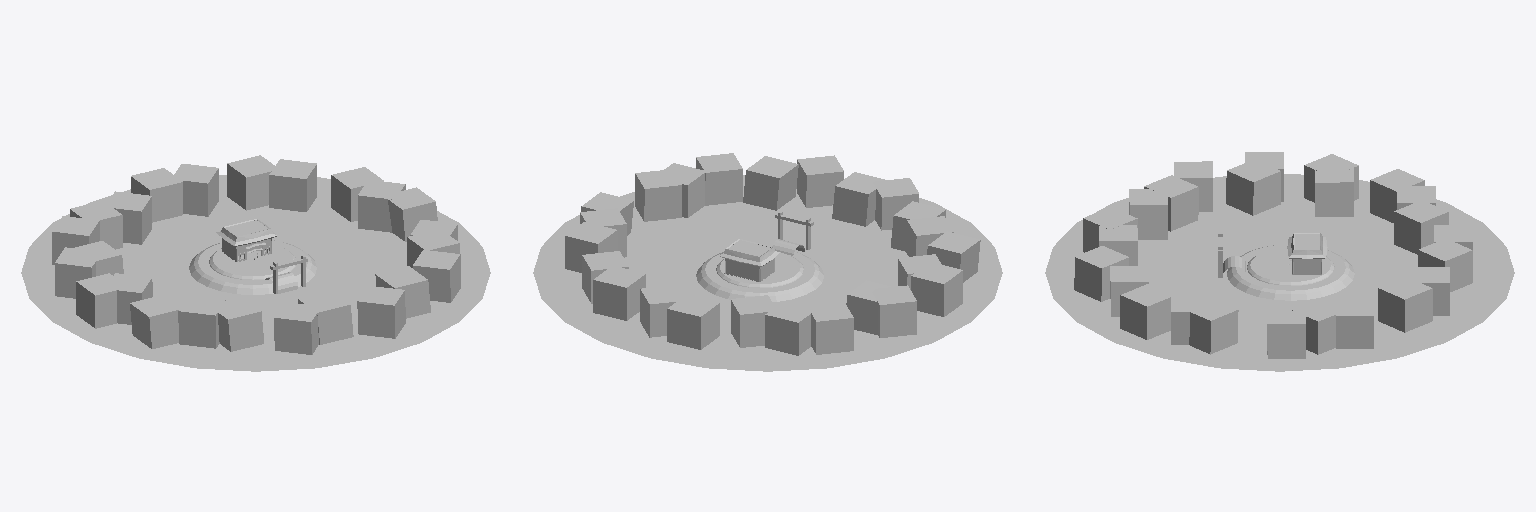
The model's file is Level.obj.
The picture shows the model from 3 angles: view 1: azimuth 30°, elevation 25°; view 2: azimuth 150°, elevation 25°; view 3: azimuth 270°, elevation 25°; orthographic projection.
Visible parts, largest first — view 1: group3_Level_pDisc2, group3_Level_pDisc3, group3_Level_group2_pCube7, group3_Level_group2_pCube11, group3_Level_group1_pCube5, group3_Level_group2_pCube12, group3_Level_group1_pCube8, group3_Level_group1_pCube13, group3_Level_group1_pCube4, group3_Level_group2_pCube15, group3_Level_group1_pCube7, group3_Level_group2_pCube10 (+16 smaller); view 2: group3_Level_pDisc2, group3_Level_pDisc3, group3_Level_group1_pCube7, group3_Level_group1_pCube12, group3_Level_group1_pCube4, group3_Level_group1_pCube8, group3_Level_group1_pCube6, group3_Level_group2_pCube9, group3_Level_group2_pCube4, group3_Level_group2_pCube11, group3_Level_group1_pCube15, group3_Level_group2_pCube10 (+16 smaller); view 3: group3_Level_pDisc2, group3_Level_pDisc3, group3_Level_group2_pCube7, group3_Level_group2_pCube10, group3_Level_group2_pCube13, group3_Level_group2_pCube9, group3_Level_pCube3_group2, group3_Level_group1_pCube10, group3_Level_group2_pCube11, group3_Level_group1_pCube9, group3_pDisc1_Level, group3_Level_group2_pCube6 (+16 smaller).
Boxes of the visible parts, <box> form: group3_Level_pDisc2: <box>21,175,490,371</box>; group3_Level_pDisc3: <box>189,240,316,294</box>; group3_Level_group2_pCube7: <box>269,159,316,211</box>; group3_Level_group2_pCube11: <box>357,286,405,338</box>; group3_Level_group1_pCube5: <box>130,295,181,348</box>; group3_Level_group2_pCube12: <box>274,302,321,354</box>; group3_Level_group1_pCube8: <box>227,155,274,210</box>; group3_Level_group1_pCube13: <box>218,297,263,351</box>; group3_Level_group1_pCube4: <box>76,273,128,328</box>; group3_Level_group2_pCube15: <box>178,296,225,348</box>; group3_Level_group1_pCube7: <box>131,168,182,222</box>; group3_Level_group2_pCube10: <box>413,250,460,302</box>; group3_Level_pDisc2: <box>533,175,1002,371</box>; group3_Level_pDisc3: <box>696,252,823,301</box>; group3_Level_group1_pCube7: <box>667,295,719,349</box>; group3_Level_group1_pCube12: <box>743,156,798,210</box>; group3_Level_group1_pCube4: <box>911,262,962,316</box>; group3_Level_group1_pCube8: <box>593,267,645,320</box>; group3_Level_group1_pCube6: <box>765,301,816,355</box>; group3_Level_group2_pCube9: <box>635,169,681,221</box>; group3_Level_group2_pCube4: <box>809,302,853,354</box>; group3_Level_group2_pCube11: <box>797,155,843,207</box>; group3_Level_group1_pCube15: <box>832,172,884,226</box>; group3_Level_group2_pCube10: <box>696,153,742,205</box>; group3_Level_pDisc2: <box>1045,174,1514,371</box>; group3_Level_pDisc3: <box>1227,244,1354,300</box>; group3_Level_group2_pCube7: <box>1378,277,1432,332</box>; group3_Level_group2_pCube10: <box>1120,284,1174,339</box>; group3_Level_group2_pCube13: <box>1226,163,1280,215</box>; group3_Level_group2_pCube9: <box>1184,298,1238,354</box>; group3_Level_pCube3_group2: <box>1394,201,1448,254</box>; group3_Level_group1_pCube10: <box>1267,308,1305,358</box>; group3_Level_group2_pCube11: <box>1074,246,1128,301</box>; group3_Level_group1_pCube9: <box>1336,299,1373,348</box>; group3_pDisc1_Level: <box>1247,248,1334,285</box>; group3_Level_group2_pCube6: <box>1418,239,1472,291</box>.
Size of the model in its own units: 142 by 11.94 by 142.